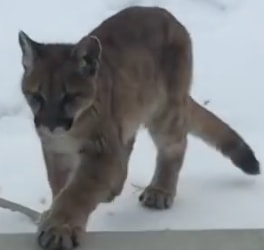Mountain Lion: (9, 8, 253, 241)
